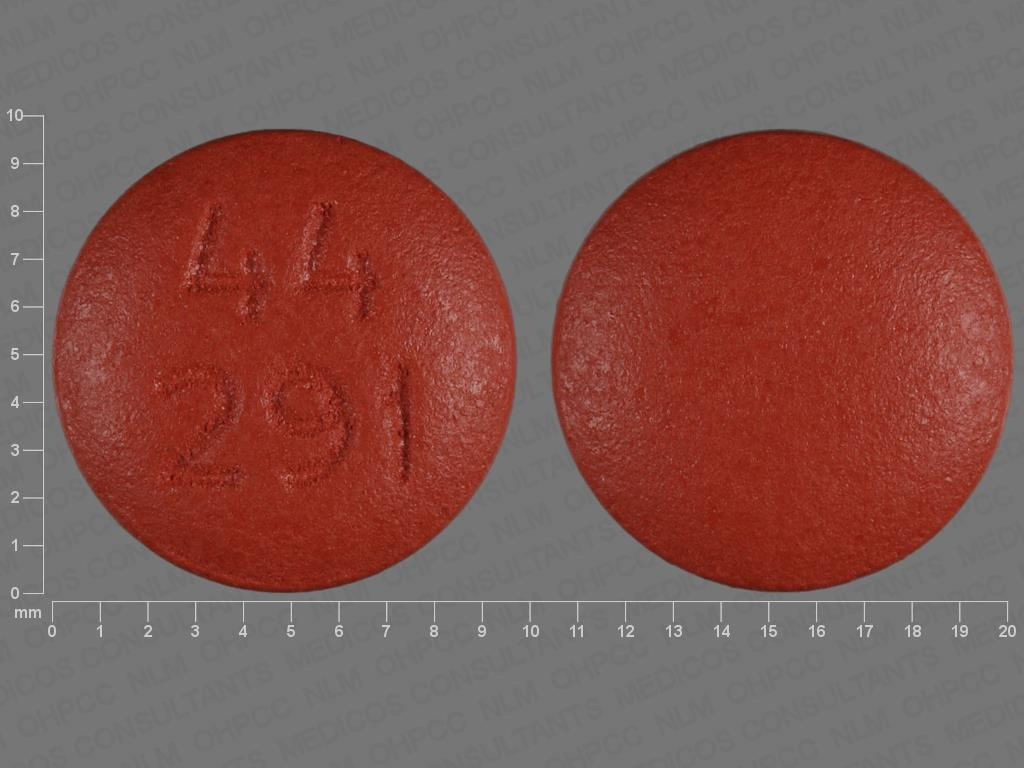Ibuprofen 200 MG Oral Tablet: (39, 118, 526, 597), (548, 115, 1019, 596)
